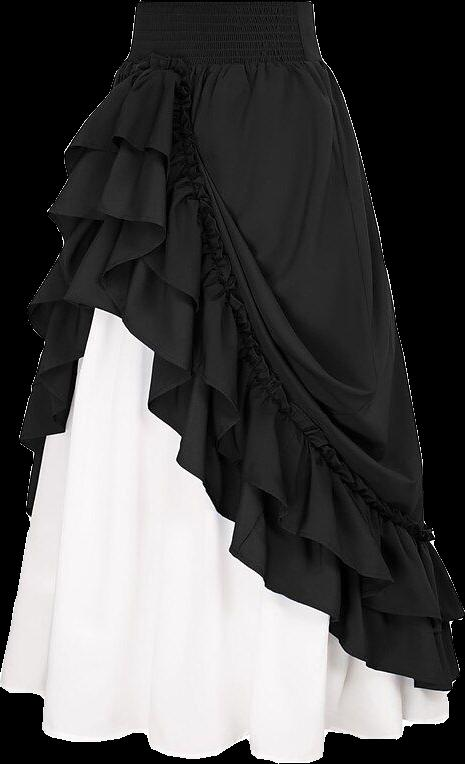Hemline: (18, 138, 464, 692), (0, 677, 454, 763)
Waistline: (125, 54, 324, 69), (132, 0, 311, 11)
